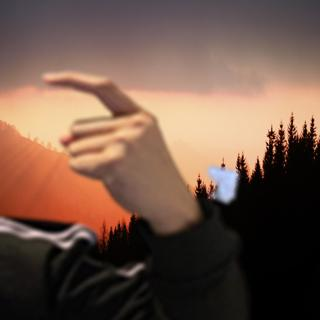WHY: (34, 65, 196, 229)
